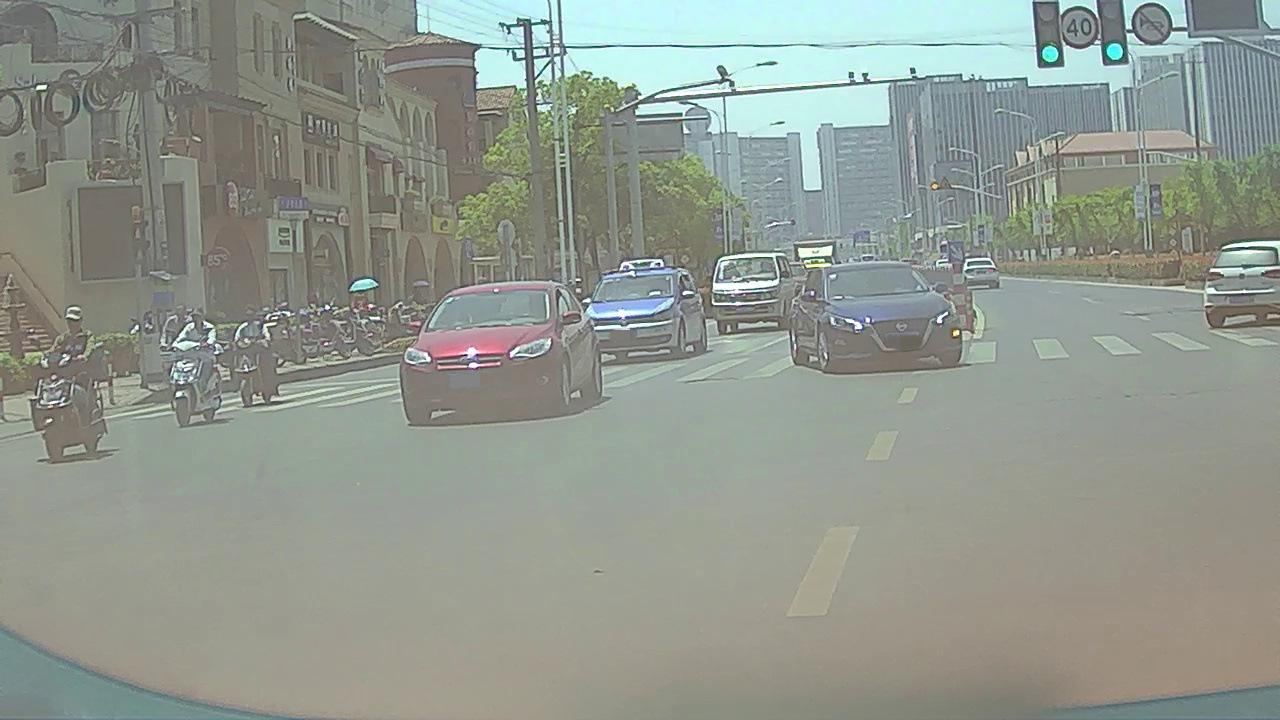traffic_light: (1037, 3, 1060, 66), (1101, 3, 1124, 63)
